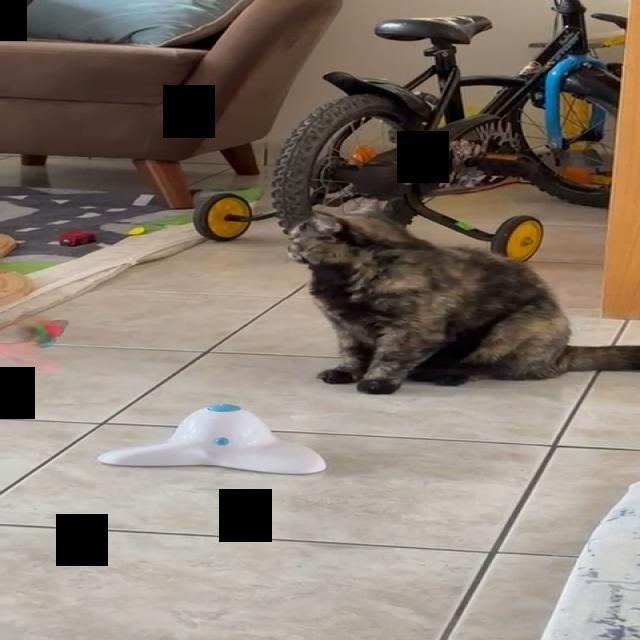authorized: (284, 210, 639, 395)
